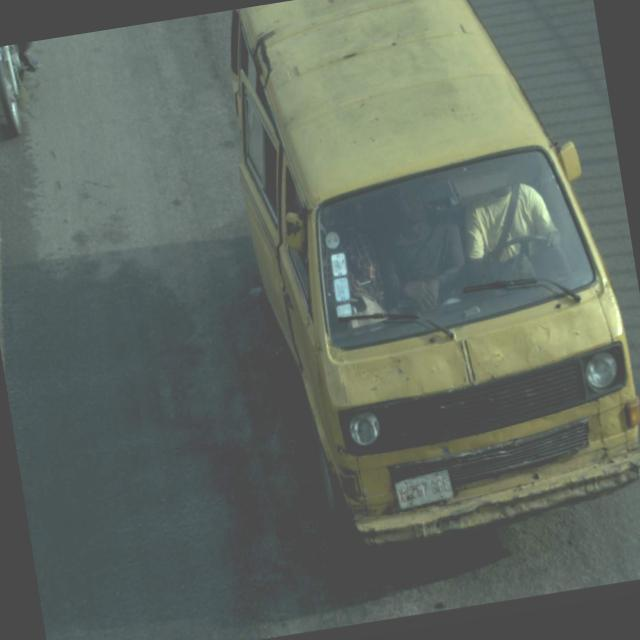windshield: (311, 144, 605, 356)
